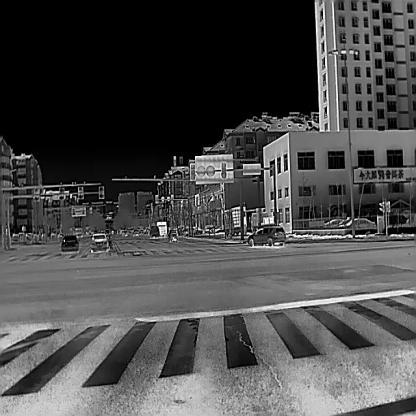car: (247, 225, 286, 246), (221, 207, 246, 236), (249, 211, 275, 233), (60, 233, 79, 254), (339, 218, 376, 228), (90, 232, 109, 251), (156, 220, 166, 236), (148, 226, 159, 236), (169, 229, 178, 241), (323, 219, 338, 225), (133, 229, 139, 236), (122, 229, 128, 236)
